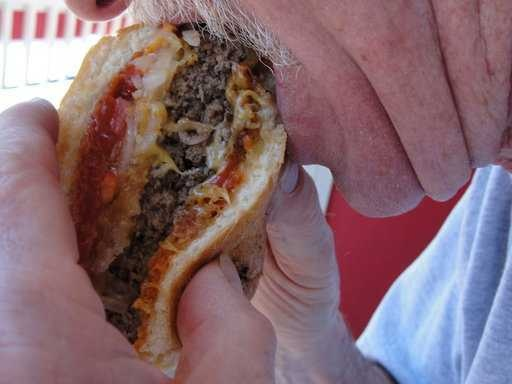hamburger: (36, 11, 291, 337)
